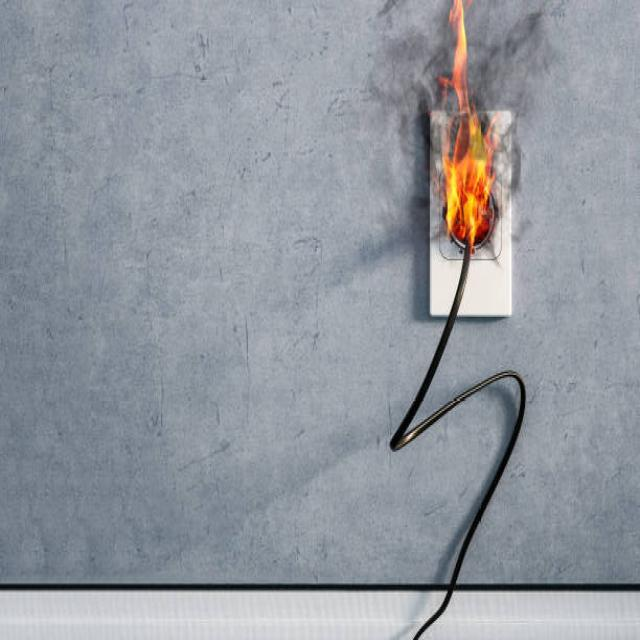fire: (405, 4, 522, 259)
